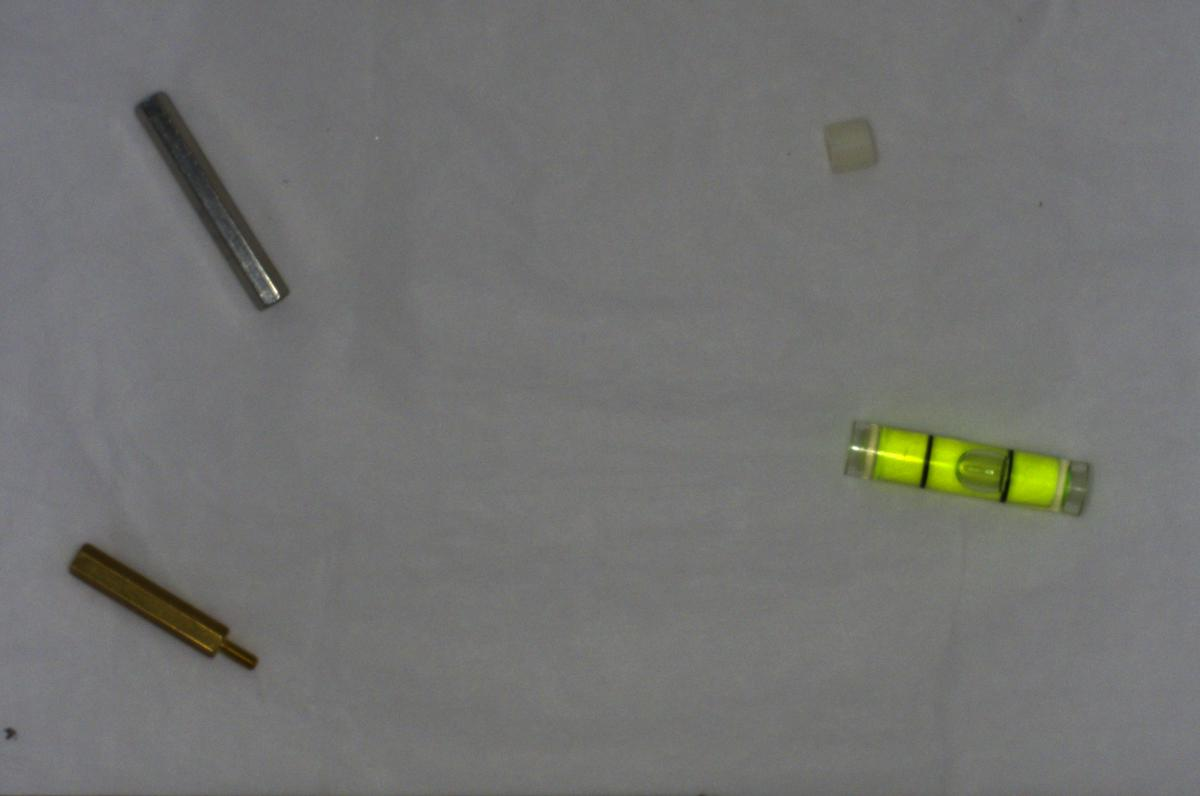Hexagon pillar: (59, 530, 268, 682)
Hexagonal steel column: (128, 79, 297, 319)
Horizontal bubble: (831, 399, 1095, 527)
Plastic cushion pillar: (810, 103, 887, 183)
